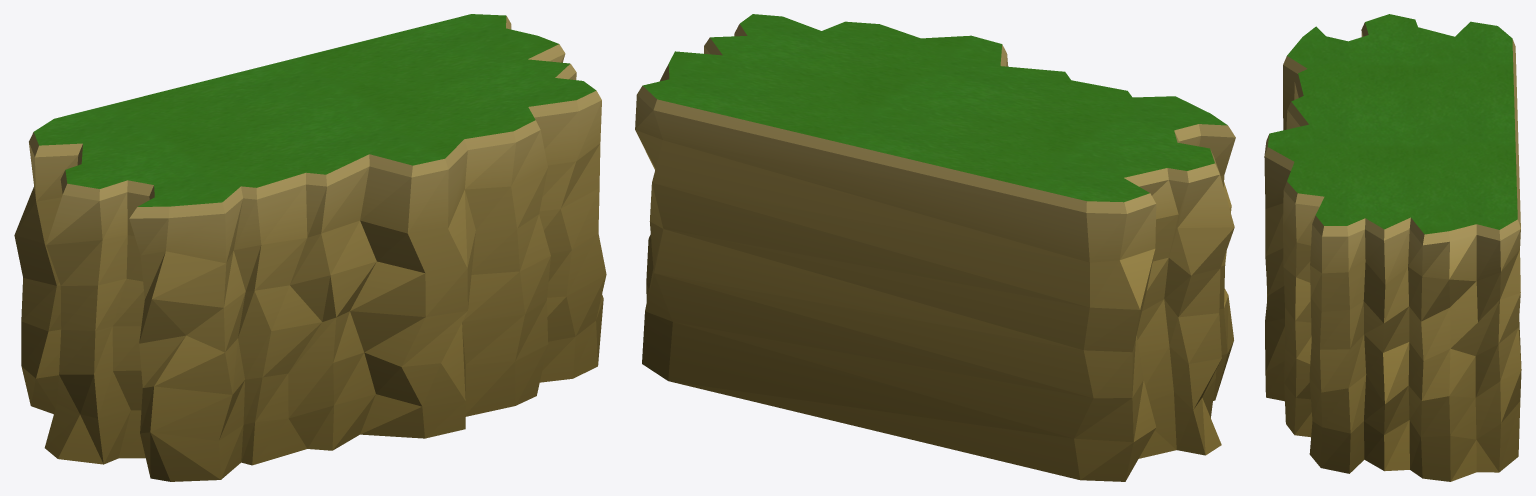
The model's file is NormalCliff_01.FBX.
3 views of the same model, side by side, from view 1: azimuth 30°, elevation 25°; view 2: azimuth 150°, elevation 25°; view 3: azimuth 270°, elevation 25° (orthographic). The views are drawn at different scales.
Parts seen in each view (by area): view 1: Plane003; view 2: Plane003; view 3: Plane003.
Boxes of the visible parts, bbox=[...] form: Plane003: bbox=[14, 14, 606, 481]; Plane003: bbox=[635, 14, 1235, 481]; Plane003: bbox=[1264, 14, 1521, 481].
Size of the model in its own units: 580 by 279 by 268.
